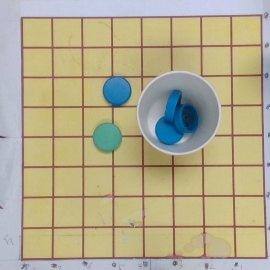blue: (102, 76, 132, 104)
cup_blue: (136, 71, 221, 158)
green: (92, 121, 123, 152)
